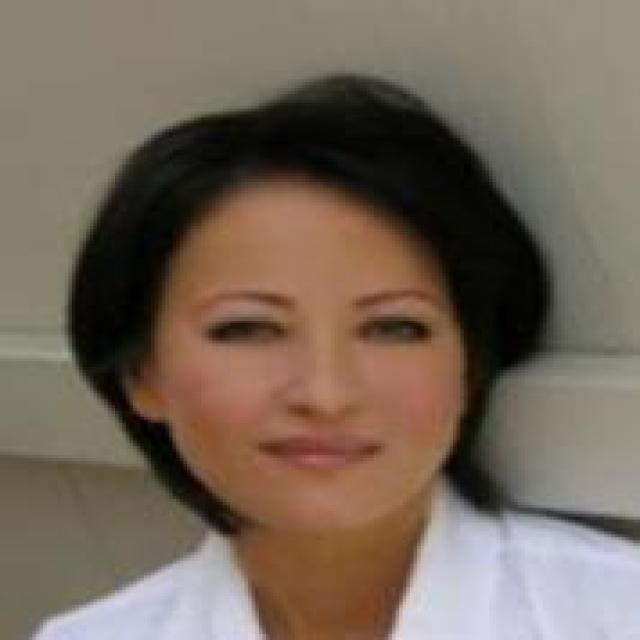bareface: (70, 107, 496, 513)
